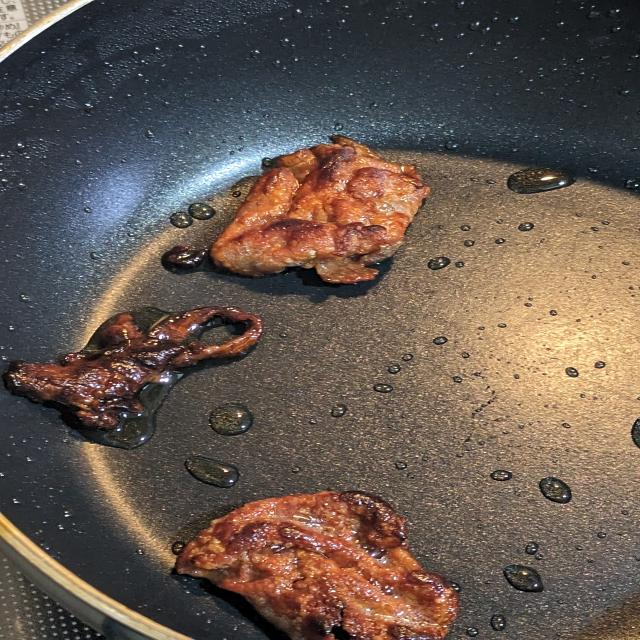overcooked pork: (156, 478, 462, 640), (192, 127, 444, 291), (0, 303, 267, 439)
